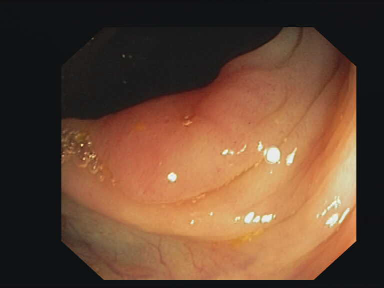polyp: (137, 89, 244, 149)
